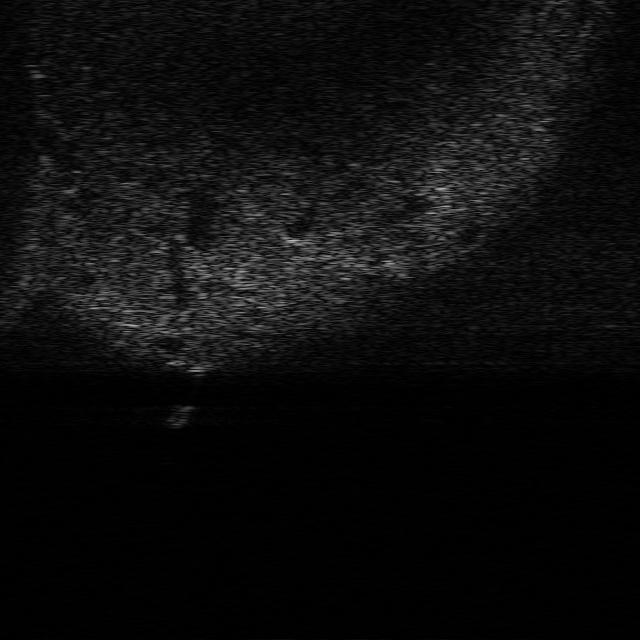cylinder: (162, 402, 196, 428)
